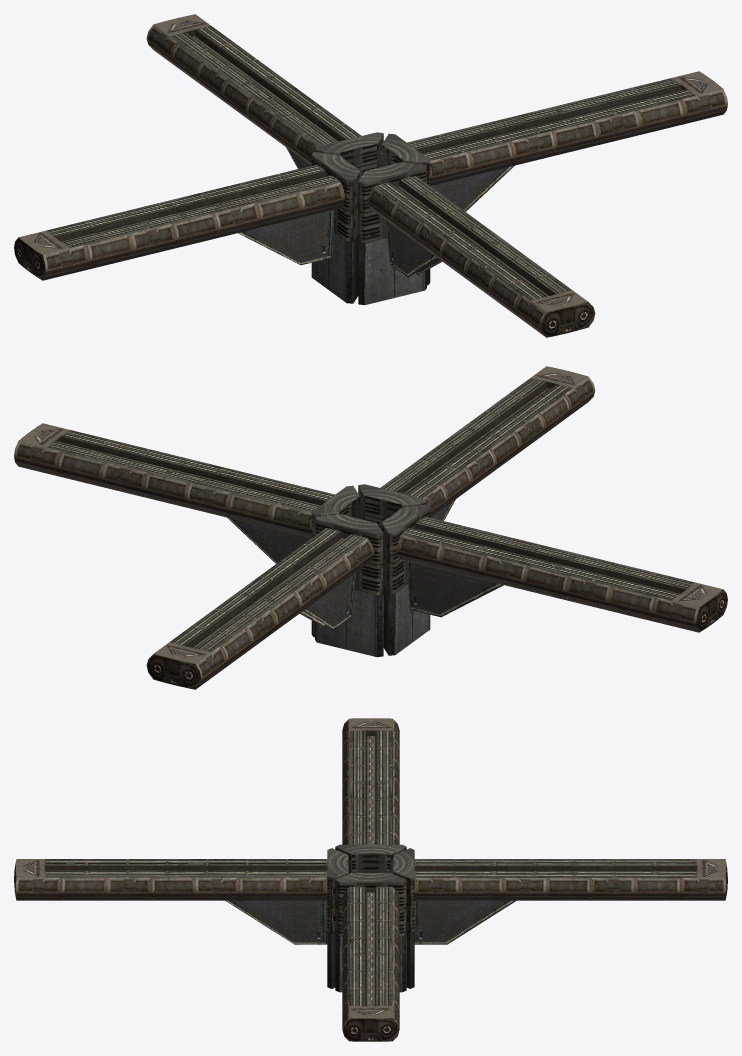
Rendered from OBJ_Rev_Blades.FBX.
3 renders of one model, top to bottom at view 1: azimuth 30°, elevation 25°; view 2: azimuth 150°, elevation 25°; view 3: azimuth 270°, elevation 25°, orthographic. The views are drawn at different scales.
Visible parts, largest first — view 1: OBJ_Rev_Blades; view 2: OBJ_Rev_Blades; view 3: OBJ_Rev_Blades.
Part boxes in pixels (x1=…): OBJ_Rev_Blades: x1=14, y1=14, x2=727, y2=337; OBJ_Rev_Blades: x1=14, y1=366, x2=727, y2=689; OBJ_Rev_Blades: x1=14, y1=718, x2=727, y2=1041.
Size of the model in its own units: 14.91 by 2.55 by 14.91.
